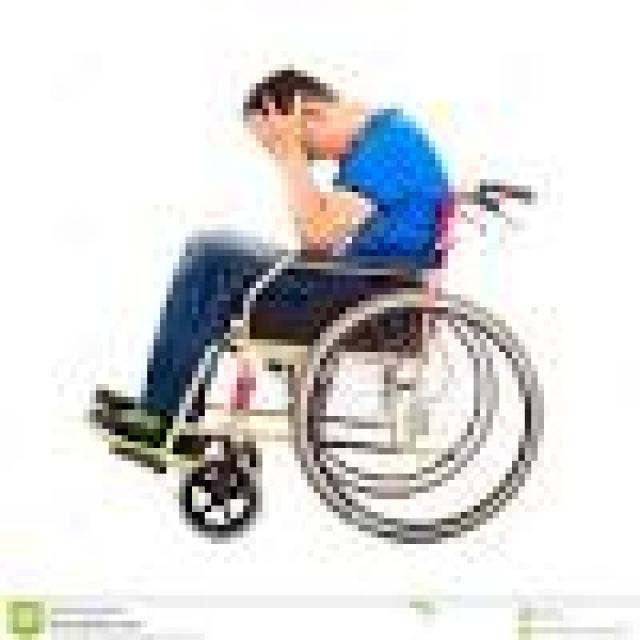wheelchairs: (77, 167, 563, 550)
